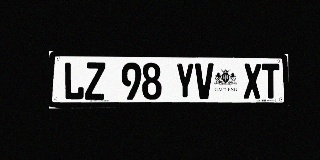8: (142, 63, 161, 100)
9: (122, 62, 141, 100)
L: (63, 62, 84, 100)
T: (262, 64, 279, 99)
V: (195, 63, 214, 99)
X: (243, 63, 261, 99)
Y: (175, 63, 194, 99)
Z: (85, 62, 105, 100)
